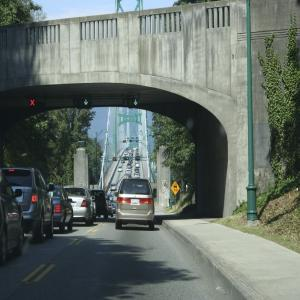Vehicle-registration-plate: (133, 200, 139, 204), (71, 204, 75, 208)
